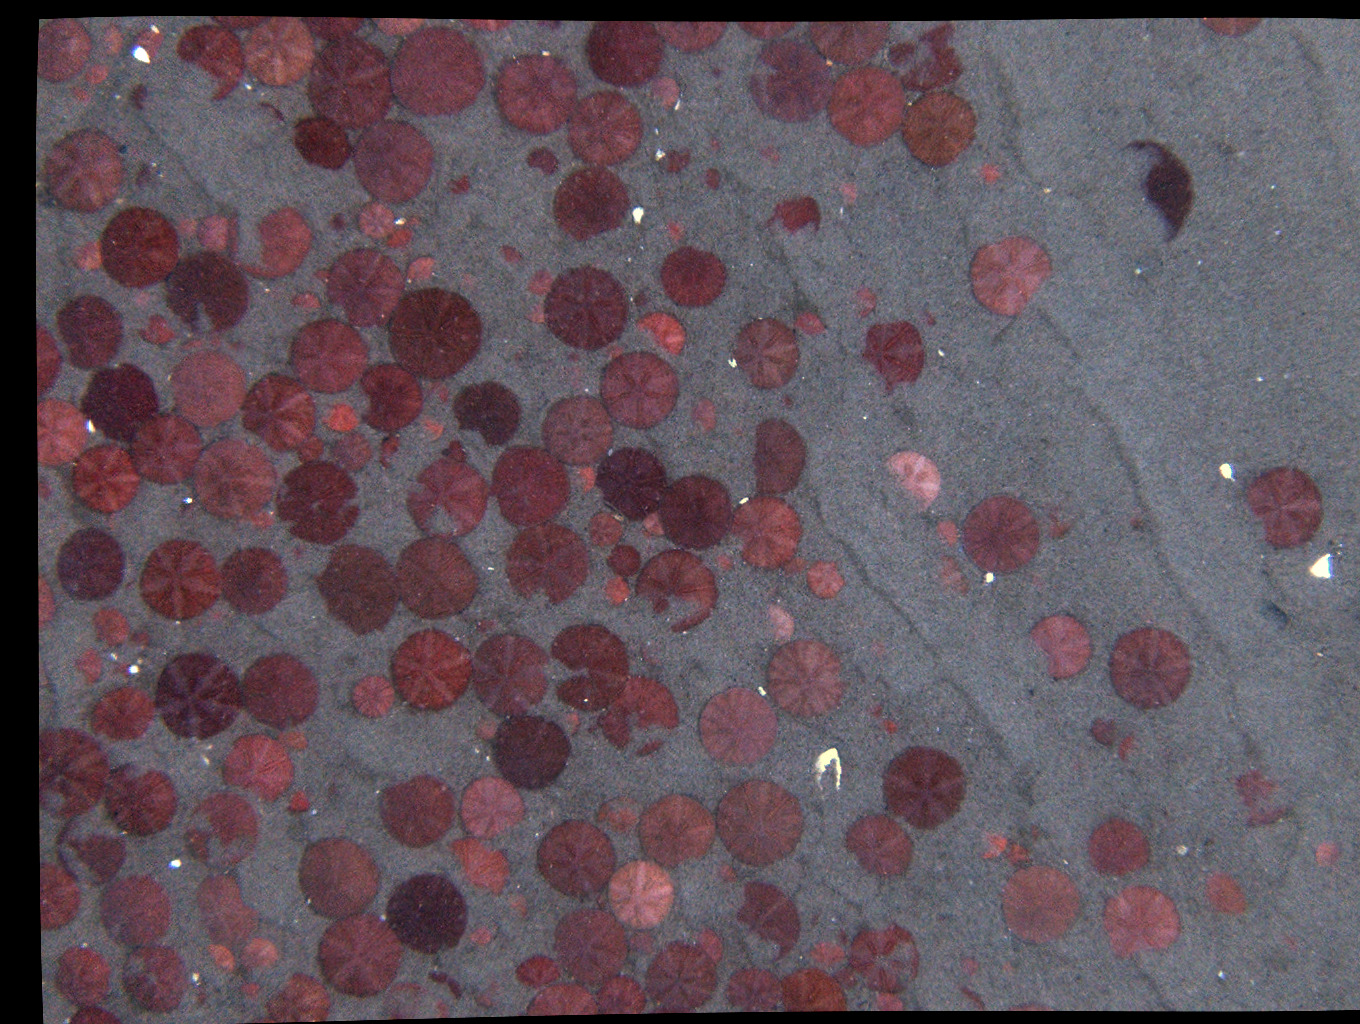Substrate A: (161, 116, 186, 134)
sand dollar: (1110, 136, 1200, 242), (395, 285, 486, 378), (638, 790, 722, 874), (318, 914, 405, 997), (238, 644, 323, 728), (724, 317, 808, 401), (485, 449, 569, 534), (510, 522, 595, 606), (244, 376, 328, 461), (238, 15, 323, 99), (164, 255, 249, 339), (237, 197, 321, 281), (323, 244, 407, 328), (493, 49, 578, 133), (763, 639, 847, 723), (302, 841, 386, 925), (384, 872, 468, 956), (698, 684, 782, 768), (383, 626, 467, 710), (378, 767, 462, 851), (1241, 763, 1325, 847), (1104, 879, 1188, 963), (1003, 864, 1087, 948), (838, 902, 921, 986), (734, 878, 818, 962), (642, 934, 726, 1018), (548, 892, 632, 976), (534, 811, 618, 895), (885, 745, 969, 829), (1245, 466, 1329, 550), (1110, 628, 1193, 712), (963, 496, 1047, 580), (718, 780, 802, 864), (464, 632, 548, 716), (488, 712, 572, 796), (604, 672, 688, 756), (550, 625, 634, 709), (639, 552, 722, 636), (864, 438, 948, 522), (729, 493, 813, 577), (734, 416, 818, 500), (662, 473, 746, 557), (591, 441, 675, 525), (313, 550, 397, 634), (221, 540, 305, 624), (270, 464, 354, 547), (187, 870, 271, 954), (96, 872, 180, 956), (61, 808, 145, 892), (192, 790, 276, 873), (226, 724, 310, 808), (159, 653, 243, 737), (33, 729, 117, 813), (857, 323, 941, 407), (597, 352, 681, 436), (540, 393, 624, 477), (393, 542, 477, 626), (138, 539, 221, 623), (400, 460, 484, 544), (282, 319, 366, 403), (173, 343, 257, 427), (81, 360, 164, 444), (54, 521, 138, 605), (970, 232, 1054, 316), (546, 161, 630, 245), (562, 89, 646, 173), (167, 25, 250, 109), (46, 129, 130, 213), (90, 207, 174, 290), (579, 20, 663, 104), (548, 260, 632, 344), (917, 91, 1001, 175), (830, 69, 914, 153), (749, 40, 833, 124), (356, 124, 440, 208), (316, 37, 400, 120), (889, 25, 971, 104), (56, 287, 135, 368), (841, 807, 915, 887), (101, 763, 178, 838), (1022, 613, 1096, 689), (662, 240, 738, 313), (609, 859, 681, 936), (132, 412, 202, 490), (94, 680, 167, 754), (1085, 810, 1159, 881), (360, 361, 430, 436), (69, 444, 143, 514), (281, 115, 355, 185), (48, 933, 120, 1004), (115, 943, 187, 1014), (262, 953, 334, 1024), (454, 376, 516, 453), (767, 966, 849, 1023), (26, 397, 94, 466), (40, 23, 108, 91), (457, 776, 530, 838), (520, 963, 600, 1020), (813, 19, 893, 73), (456, 828, 515, 900), (30, 855, 84, 931), (716, 959, 793, 1012), (29, 316, 68, 399), (771, 191, 825, 247), (652, 20, 722, 62), (378, 980, 449, 1021), (639, 305, 691, 357), (1203, 876, 1250, 923), (1302, 830, 1349, 877), (424, 952, 470, 998), (1192, 14, 1270, 41), (597, 978, 648, 1016), (1039, 506, 1079, 547), (325, 389, 366, 430), (393, 245, 434, 286), (522, 145, 563, 186), (78, 234, 119, 275), (439, 425, 479, 466), (783, 551, 824, 592), (711, 545, 751, 586), (653, 141, 693, 182), (652, 210, 692, 251), (824, 952, 864, 993), (466, 921, 506, 962), (123, 631, 163, 672), (397, 207, 436, 248), (286, 278, 326, 319), (366, 435, 405, 477), (74, 648, 114, 689), (94, 606, 133, 648), (350, 675, 390, 717), (359, 202, 399, 243), (486, 229, 526, 270), (323, 197, 362, 238), (646, 76, 686, 117), (449, 167, 489, 208), (171, 189, 211, 230), (140, 310, 180, 351), (132, 77, 172, 118), (197, 212, 237, 253), (56, 77, 96, 118), (83, 63, 123, 104), (102, 19, 142, 60), (127, 24, 167, 65), (246, 100, 286, 141), (242, 502, 282, 543), (330, 430, 370, 471), (287, 428, 327, 469), (421, 412, 461, 453), (417, 375, 457, 416), (593, 573, 633, 614), (605, 541, 645, 582), (765, 605, 805, 645), (633, 509, 673, 550), (928, 559, 968, 600), (930, 513, 970, 554), (804, 558, 844, 599), (574, 464, 614, 504), (967, 160, 1006, 201), (750, 142, 790, 183), (831, 167, 871, 208), (706, 163, 746, 204), (844, 282, 884, 323), (790, 302, 830, 343), (687, 394, 727, 435), (600, 331, 640, 372), (529, 294, 569, 335), (515, 255, 555, 296), (1088, 709, 1128, 750), (1013, 831, 1053, 872), (973, 827, 1013, 868), (865, 699, 905, 740), (860, 969, 900, 1010), (807, 925, 847, 966), (693, 919, 733, 959), (706, 854, 746, 895), (635, 915, 675, 956), (601, 797, 641, 838), (556, 711, 596, 752), (512, 948, 552, 989), (501, 882, 541, 923), (225, 970, 264, 1011), (245, 937, 285, 978), (202, 939, 242, 980), (33, 475, 73, 516), (460, 708, 500, 749), (276, 784, 316, 825), (280, 719, 319, 759), (1103, 736, 1143, 777), (962, 939, 1002, 980), (950, 972, 990, 1013), (307, 14, 366, 42), (215, 13, 273, 41), (1001, 989, 1063, 1011), (589, 510, 625, 546), (460, 16, 521, 37), (33, 574, 54, 635), (71, 1004, 125, 1024), (739, 19, 798, 38), (377, 15, 427, 35)
